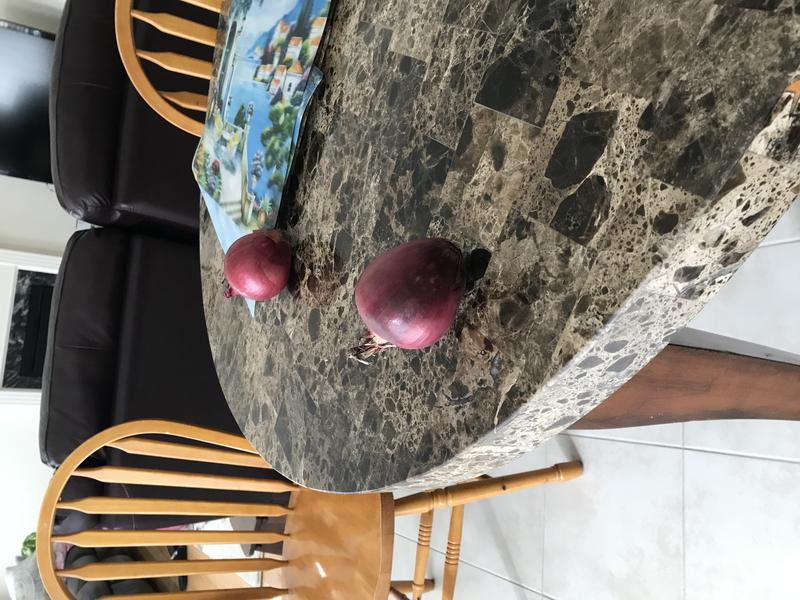purple_onion: (349, 229, 495, 372), (216, 224, 296, 311)
